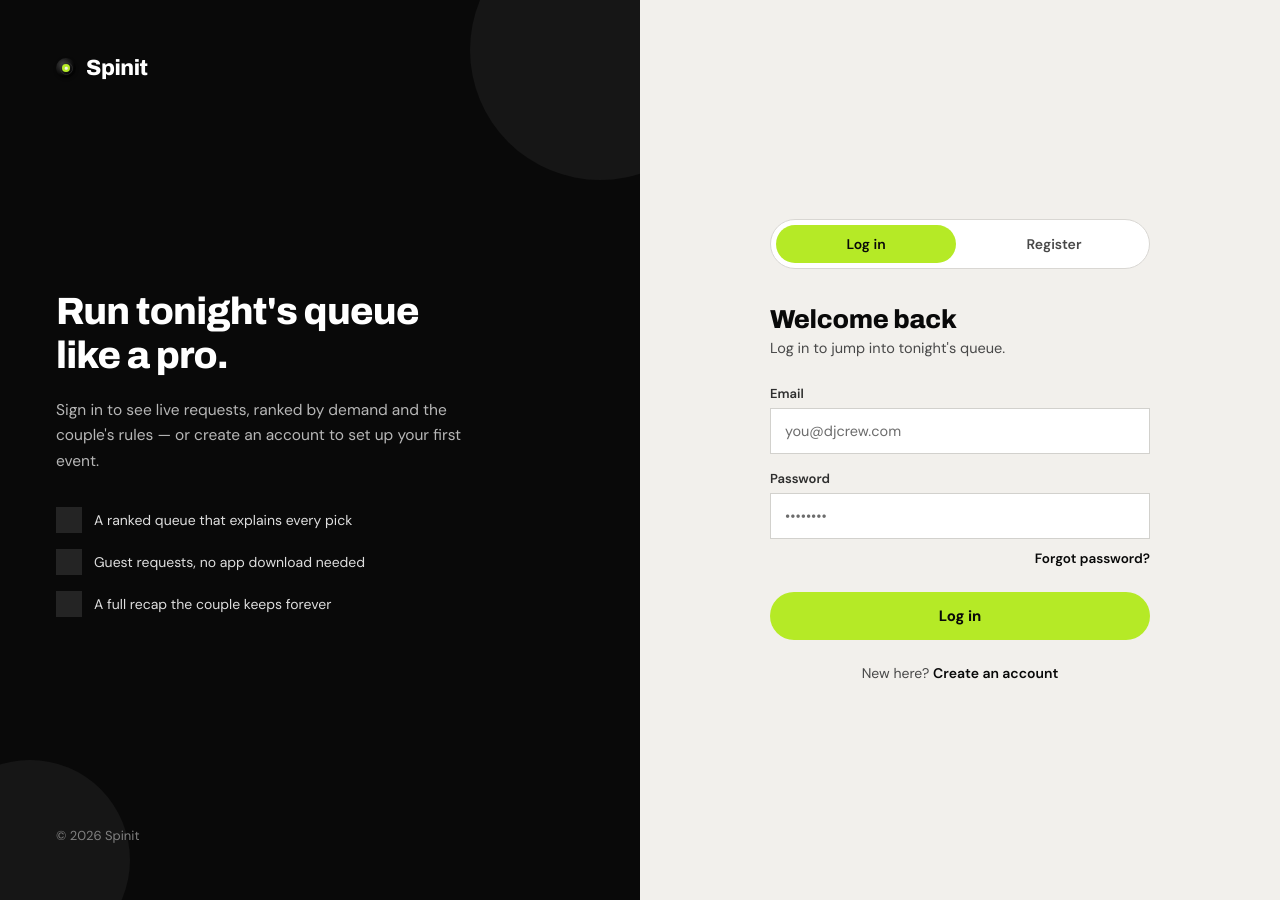
Test: AuthScreen › shows the required-email error when the login form is submitted with an empty email
The width and height of the screenshot is (1280, 900).
Type "password123" into the password field labelled "Password" at (960, 516), box x1=770 y1=492 x2=1150 y2=538
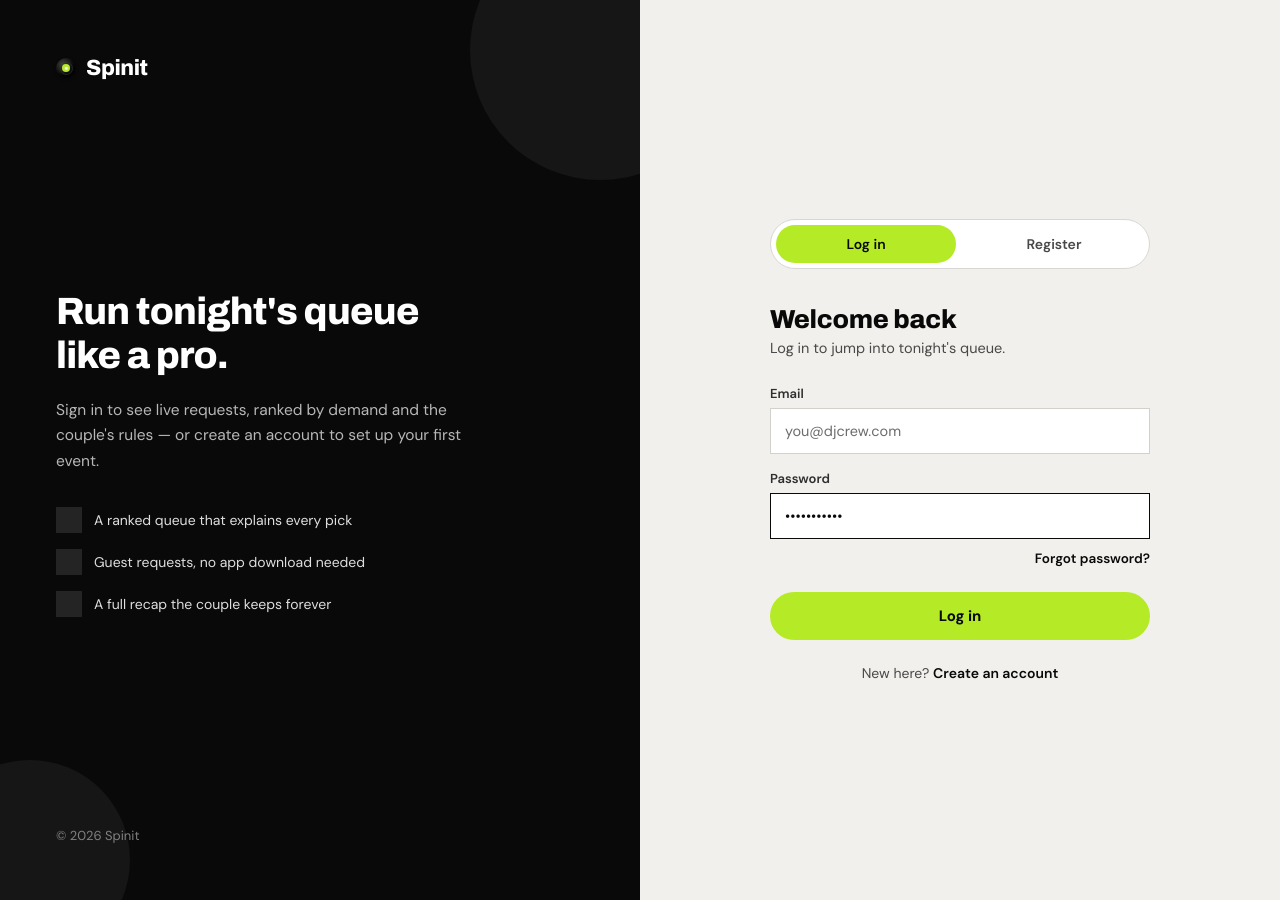
Click the button "Log in" at (960, 616), box x1=770 y1=592 x2=1150 y2=640
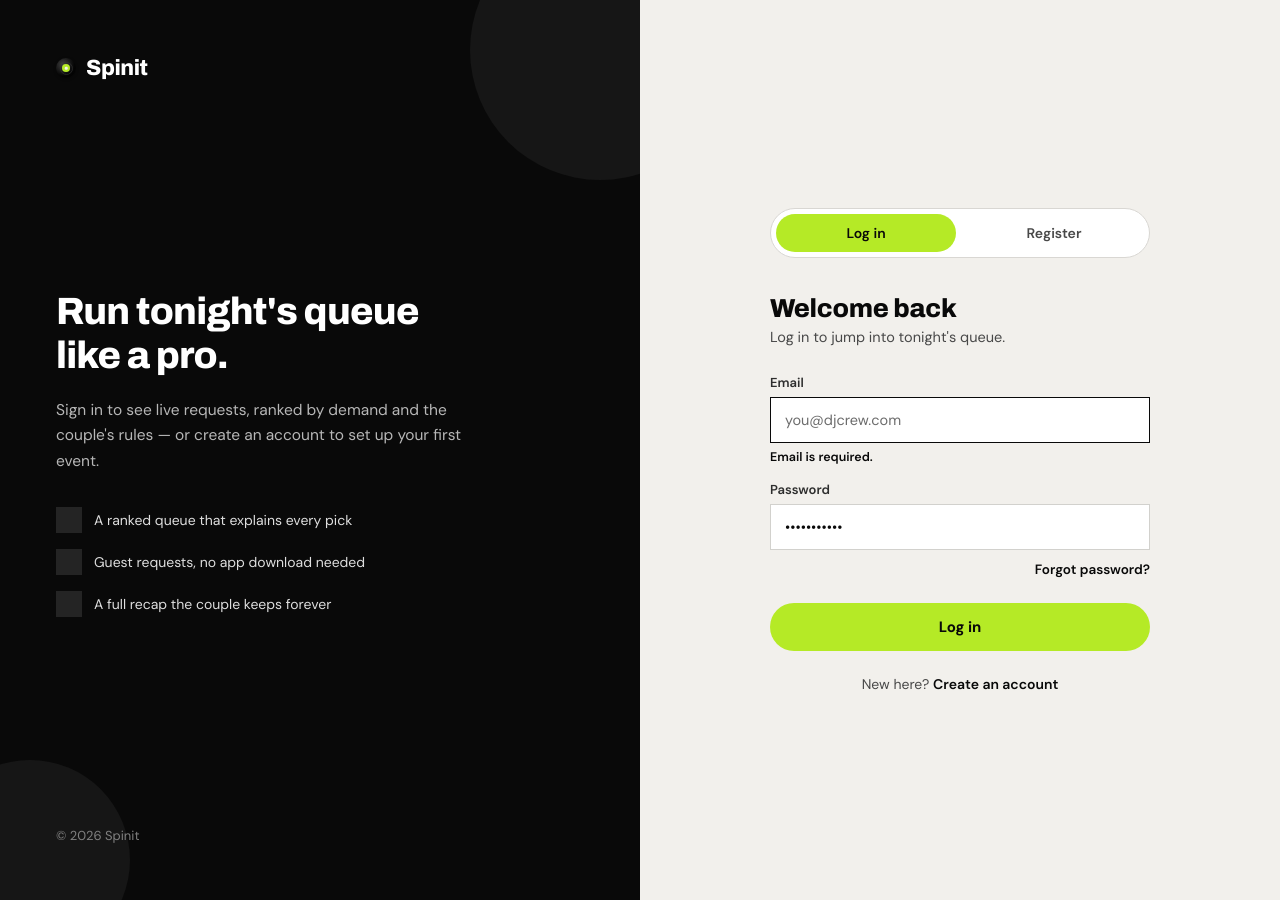
Expected: the text "Email is required." is shown, x1=770 y1=448 x2=873 y2=464
